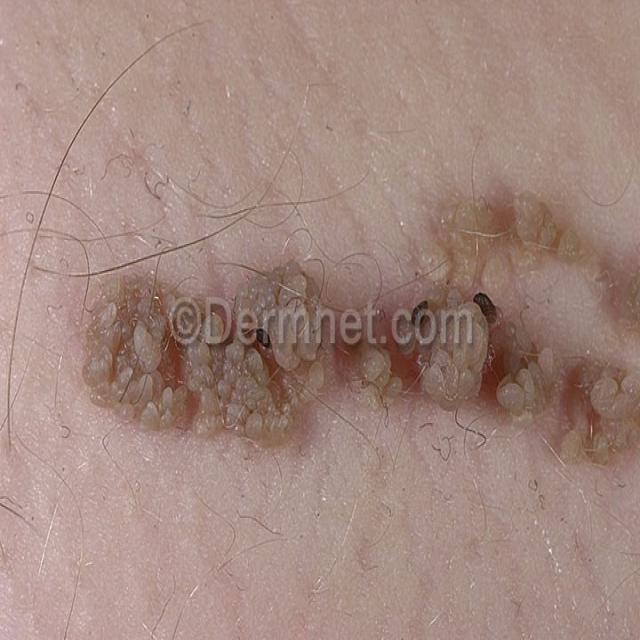Eczema: (60, 201, 640, 467)
